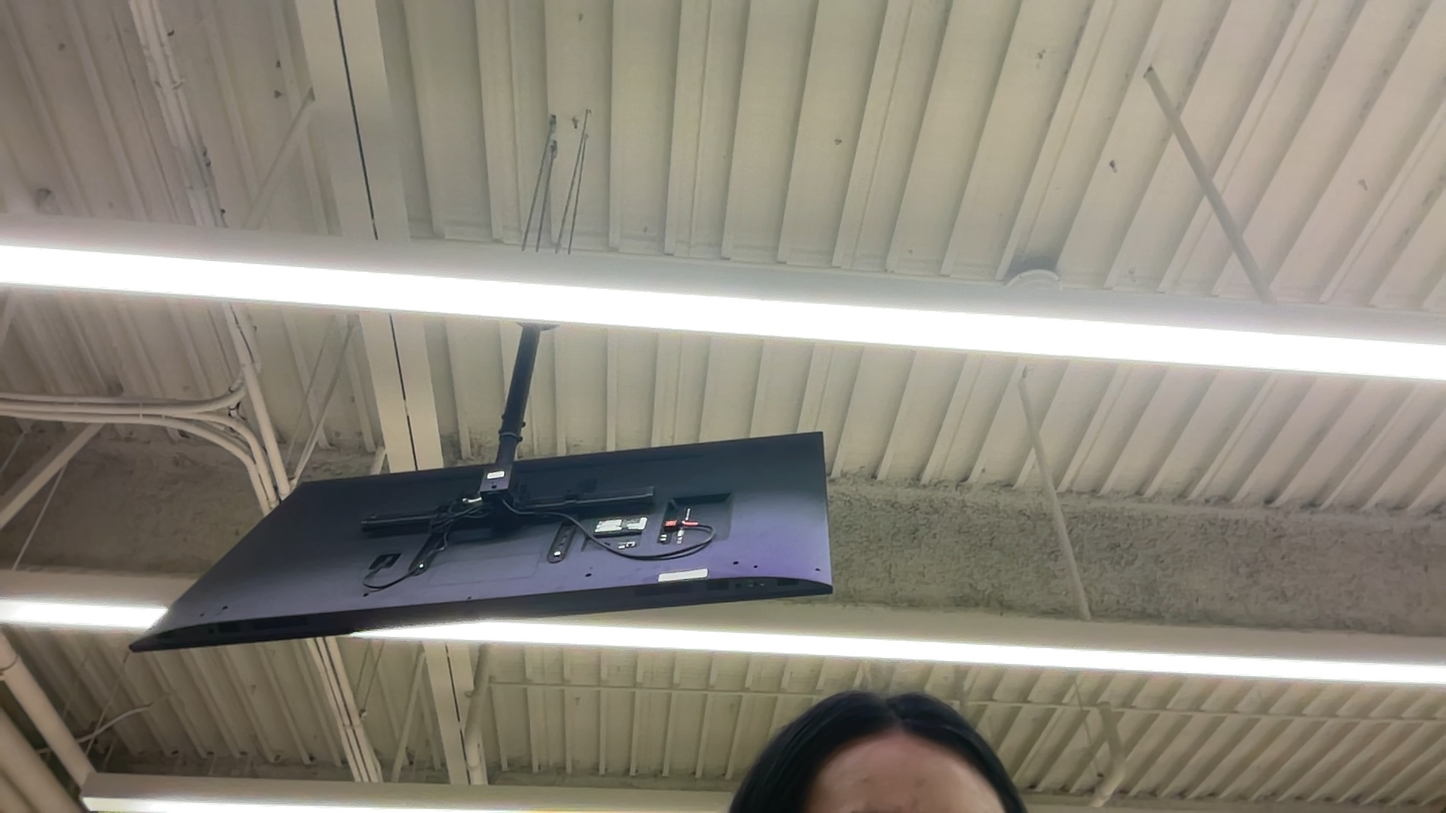Plastic: (4, 403, 271, 603)
